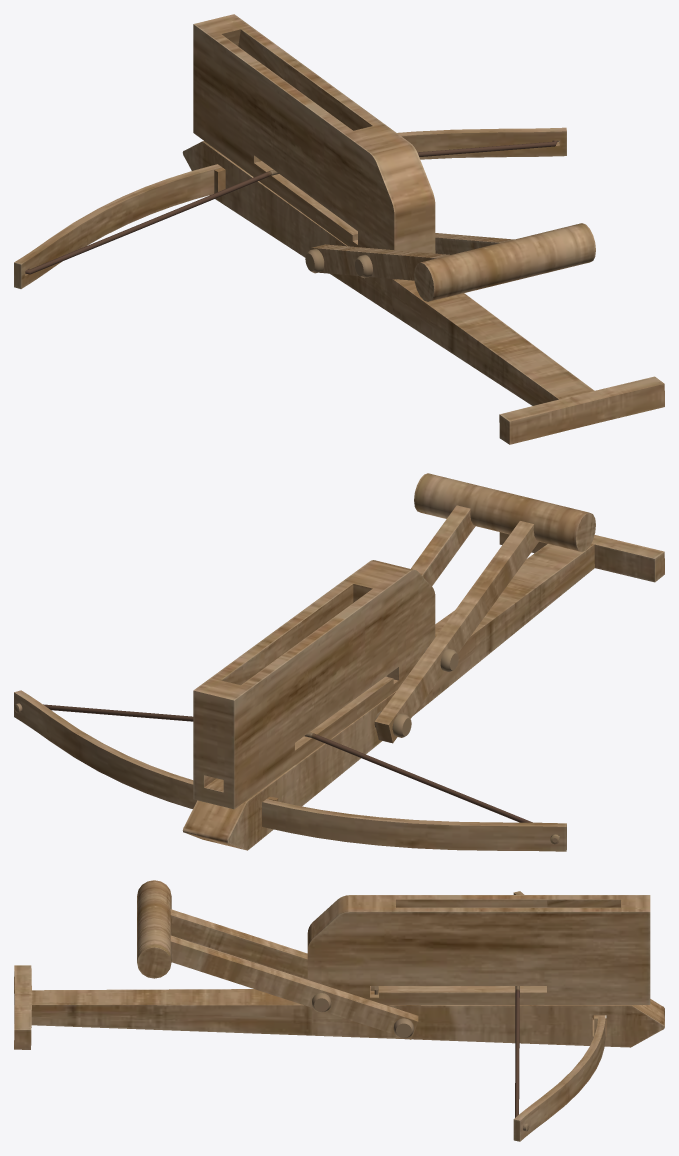
File: repeat_xbow.glb
3 views of the same model, one above another, from view 1: azimuth 30°, elevation 25°; view 2: azimuth 150°, elevation 25°; view 3: azimuth 270°, elevation 25° (orthographic). The views are drawn at different scales.
Parts seen in each view (by area): view 1: Object_79; view 2: Object_79; view 3: Object_79.
Boxes of the visible parts, x1,y1,x2,y2 form: Object_79: [14, 14, 664, 444]; Object_79: [14, 473, 664, 851]; Object_79: [14, 880, 664, 1141].
Size of the model in its own units: 0.3692 by 0.1008 by 0.4422.
1 material, 1 textured.
